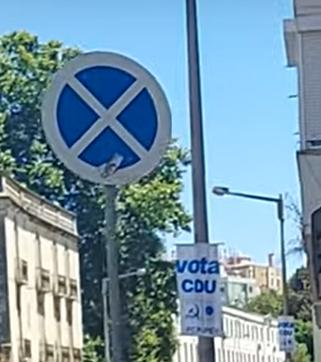paragem e estacionamneto proibidos: (36, 49, 181, 187)
